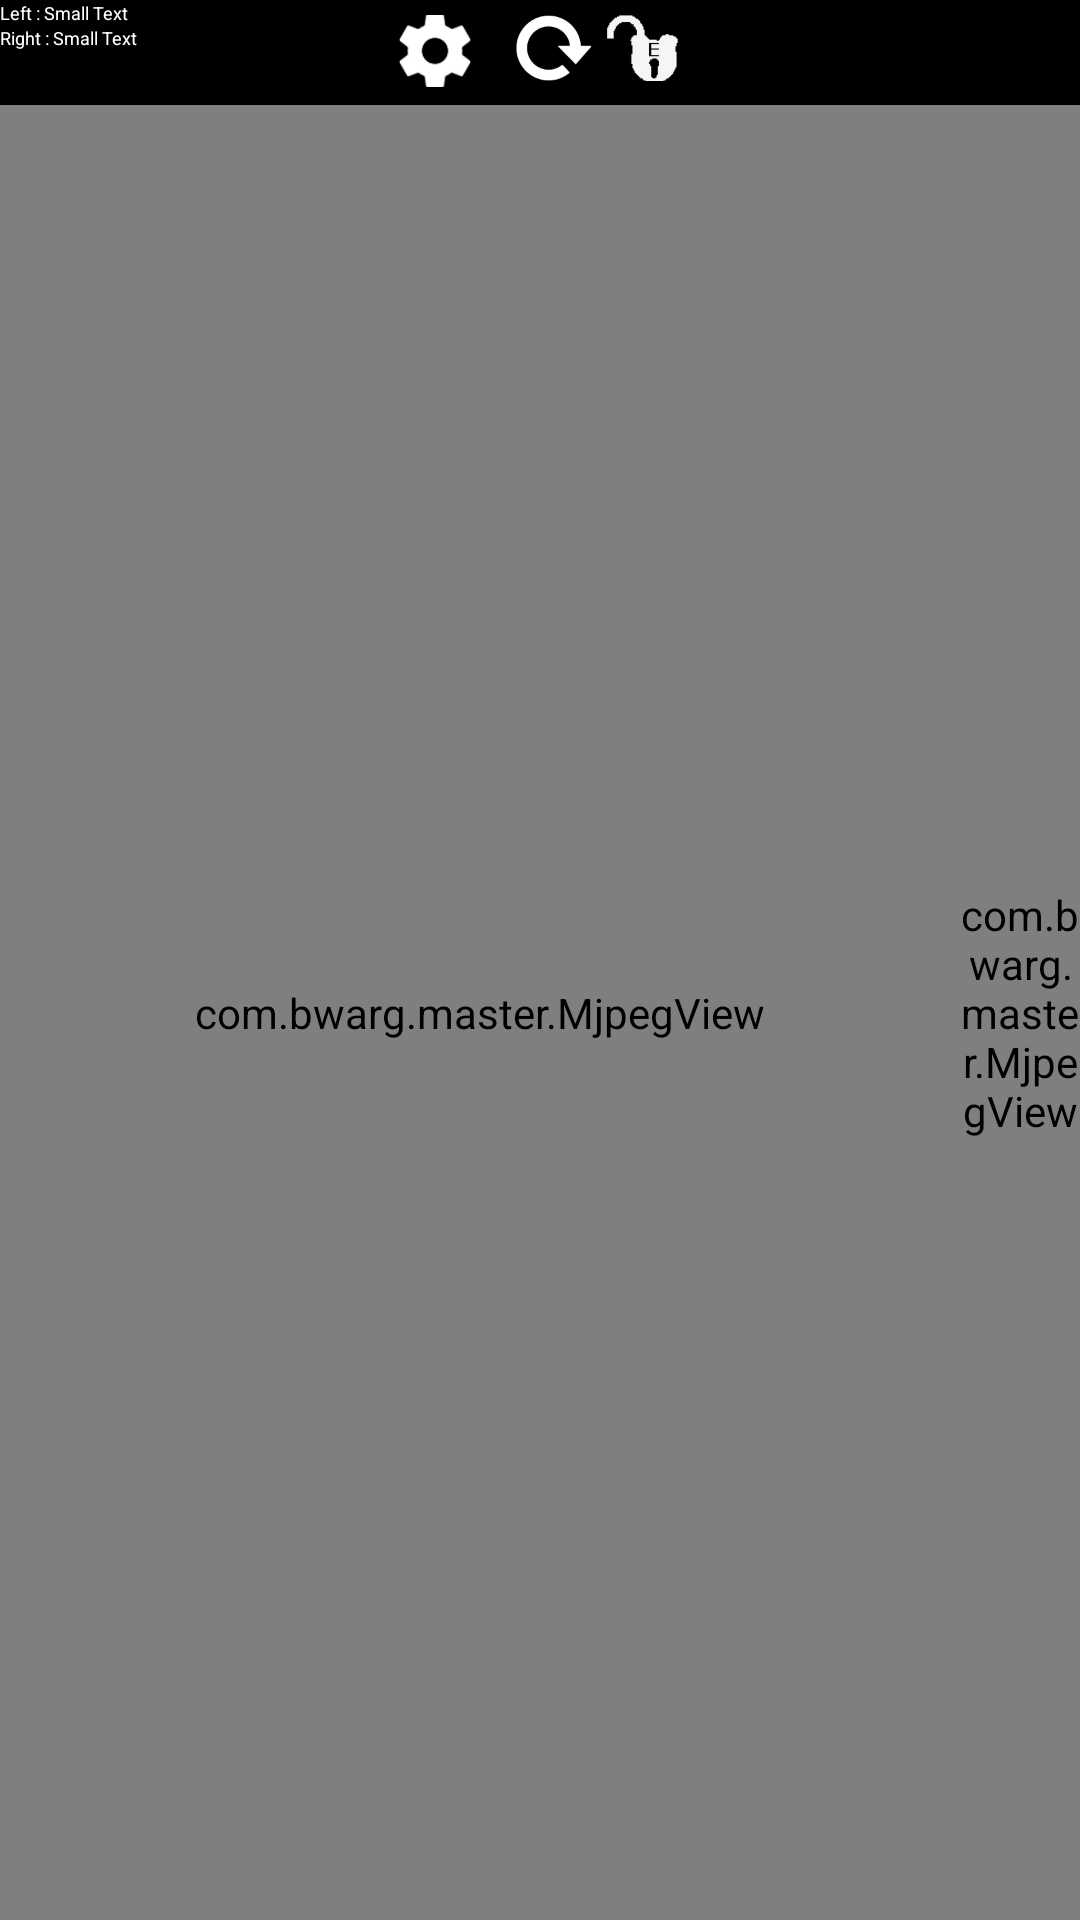

Where to tap for icons on this 1080px x 1920px app screen, as point (x, y):
exposure unlocked: point (642, 48)
refresh: point (553, 48)
settings: point (435, 51)
